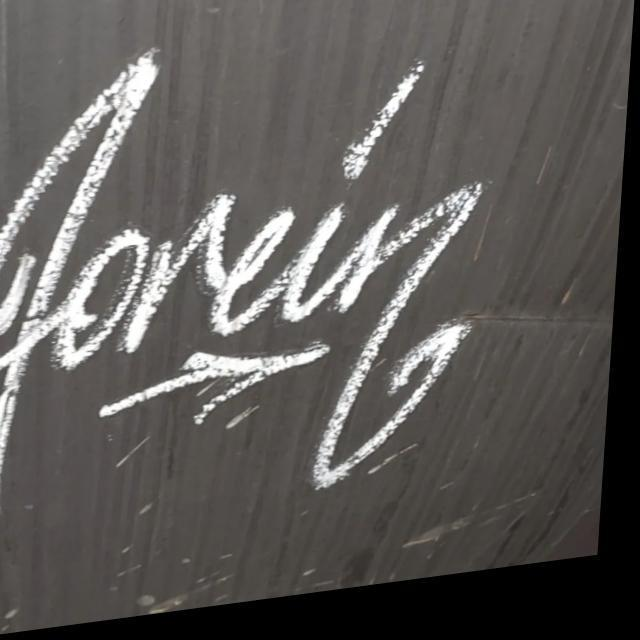nonspitting: (0, 47, 485, 492)
